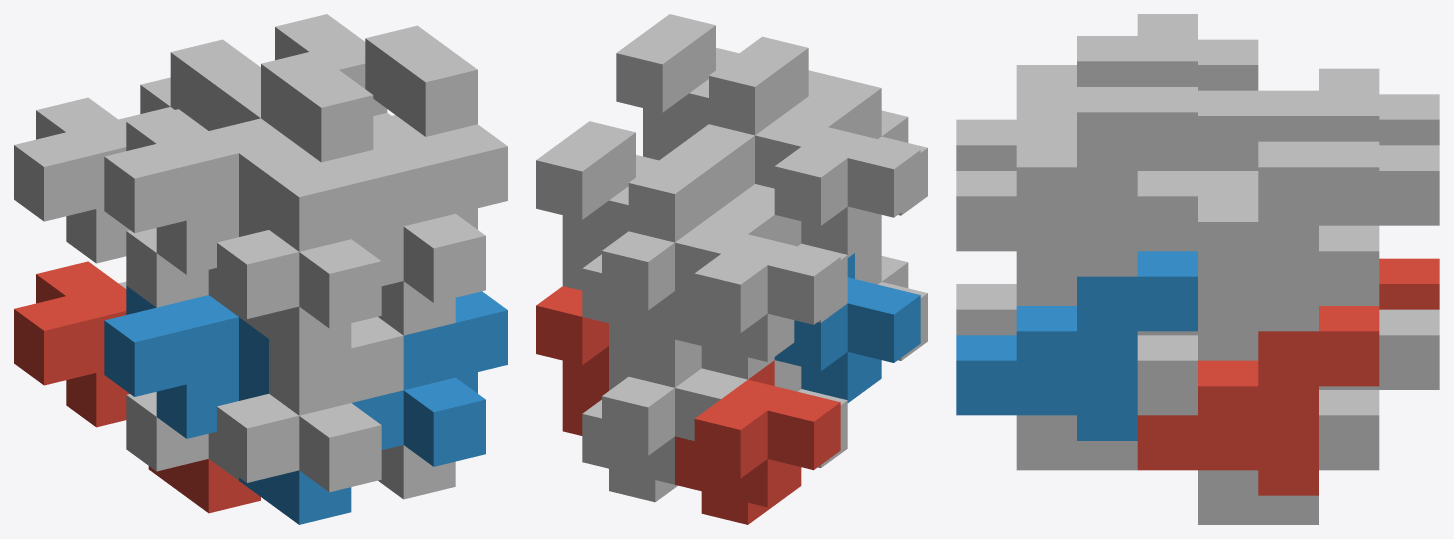
Rendered from tiling.obj.
3 views of the same model, side by side, from view 1: azimuth 30°, elevation 25°; view 2: azimuth 150°, elevation 25°; view 3: azimuth 270°, elevation 25° (orthographic). The views are drawn at different scales.
Parts seen in each view (by area): view 1: copy_2_domain_4, copy_2_domain_8, copy_1_domain_4, copy_2_domain_2, copy_1_domain_2, copy_1_domain_1, copy_2_domain_6, copy_1_domain_3, copy_2_domain_3, copy_1_domain_8, copy_2_domain_1, copy_2_domain_7 (+2 smaller); view 2: copy_1_domain_3, copy_1_domain_1, copy_1_domain_4, copy_1_domain_5, copy_1_domain_7, copy_2_domain_4, copy_1_domain_2, copy_2_domain_7, copy_2_domain_8, copy_2_domain_3, copy_2_domain_5, copy_1_domain_8 (+2 smaller); view 3: copy_2_domain_8, copy_2_domain_6, copy_2_domain_5, copy_2_domain_7, copy_1_domain_5, copy_1_domain_8, copy_1_domain_7, copy_2_domain_4, copy_1_domain_6, copy_2_domain_3, copy_1_domain_3, copy_1_domain_4 (+2 smaller).
Part boxes in pixels (box(x1,y1,x2,y2)): copy_2_domain_4: box(217, 51, 403, 328); copy_2_domain_8: box(351, 25, 507, 302); copy_1_domain_4: box(104, 109, 351, 360); copy_2_domain_2: box(217, 316, 403, 492); copy_1_domain_2: box(104, 286, 351, 524); copy_1_domain_1: box(14, 261, 260, 513); copy_2_domain_6: box(352, 291, 507, 466); copy_1_domain_3: box(14, 97, 129, 263); copy_2_domain_3: box(126, 39, 260, 316); copy_1_domain_8: box(209, 89, 455, 335); copy_2_domain_1: box(126, 392, 238, 480); copy_2_domain_7: box(275, 14, 391, 120); copy_1_domain_3: box(675, 203, 840, 379); copy_1_domain_1: box(675, 360, 840, 524); copy_1_domain_4: box(774, 96, 920, 257); copy_1_domain_5: box(582, 346, 747, 502); copy_1_domain_7: box(582, 186, 747, 350); copy_2_domain_4: box(709, 36, 927, 215); copy_1_domain_2: box(774, 253, 920, 402); copy_2_domain_7: box(536, 121, 658, 290); copy_2_domain_8: box(616, 14, 738, 160); copy_2_domain_3: box(628, 143, 847, 322); copy_2_domain_5: box(536, 286, 608, 435); copy_1_domain_8: box(682, 79, 827, 202); copy_2_domain_8: box(956, 87, 1197, 276); copy_2_domain_6: box(956, 251, 1197, 440); copy_2_domain_5: box(1137, 306, 1379, 495); copy_2_domain_7: box(1198, 141, 1379, 331); copy_1_domain_5: box(1198, 309, 1439, 524); copy_1_domain_8: box(1016, 90, 1258, 305); copy_1_domain_7: box(1198, 145, 1439, 360); copy_2_domain_4: box(956, 36, 1197, 170); copy_1_domain_6: box(1016, 331, 1197, 470); copy_2_domain_3: box(1258, 90, 1379, 141); copy_1_domain_3: box(1319, 68, 1439, 145); copy_1_domain_4: box(1137, 14, 1258, 90).
Size of the model in its own units: 6 by 8 by 8.
